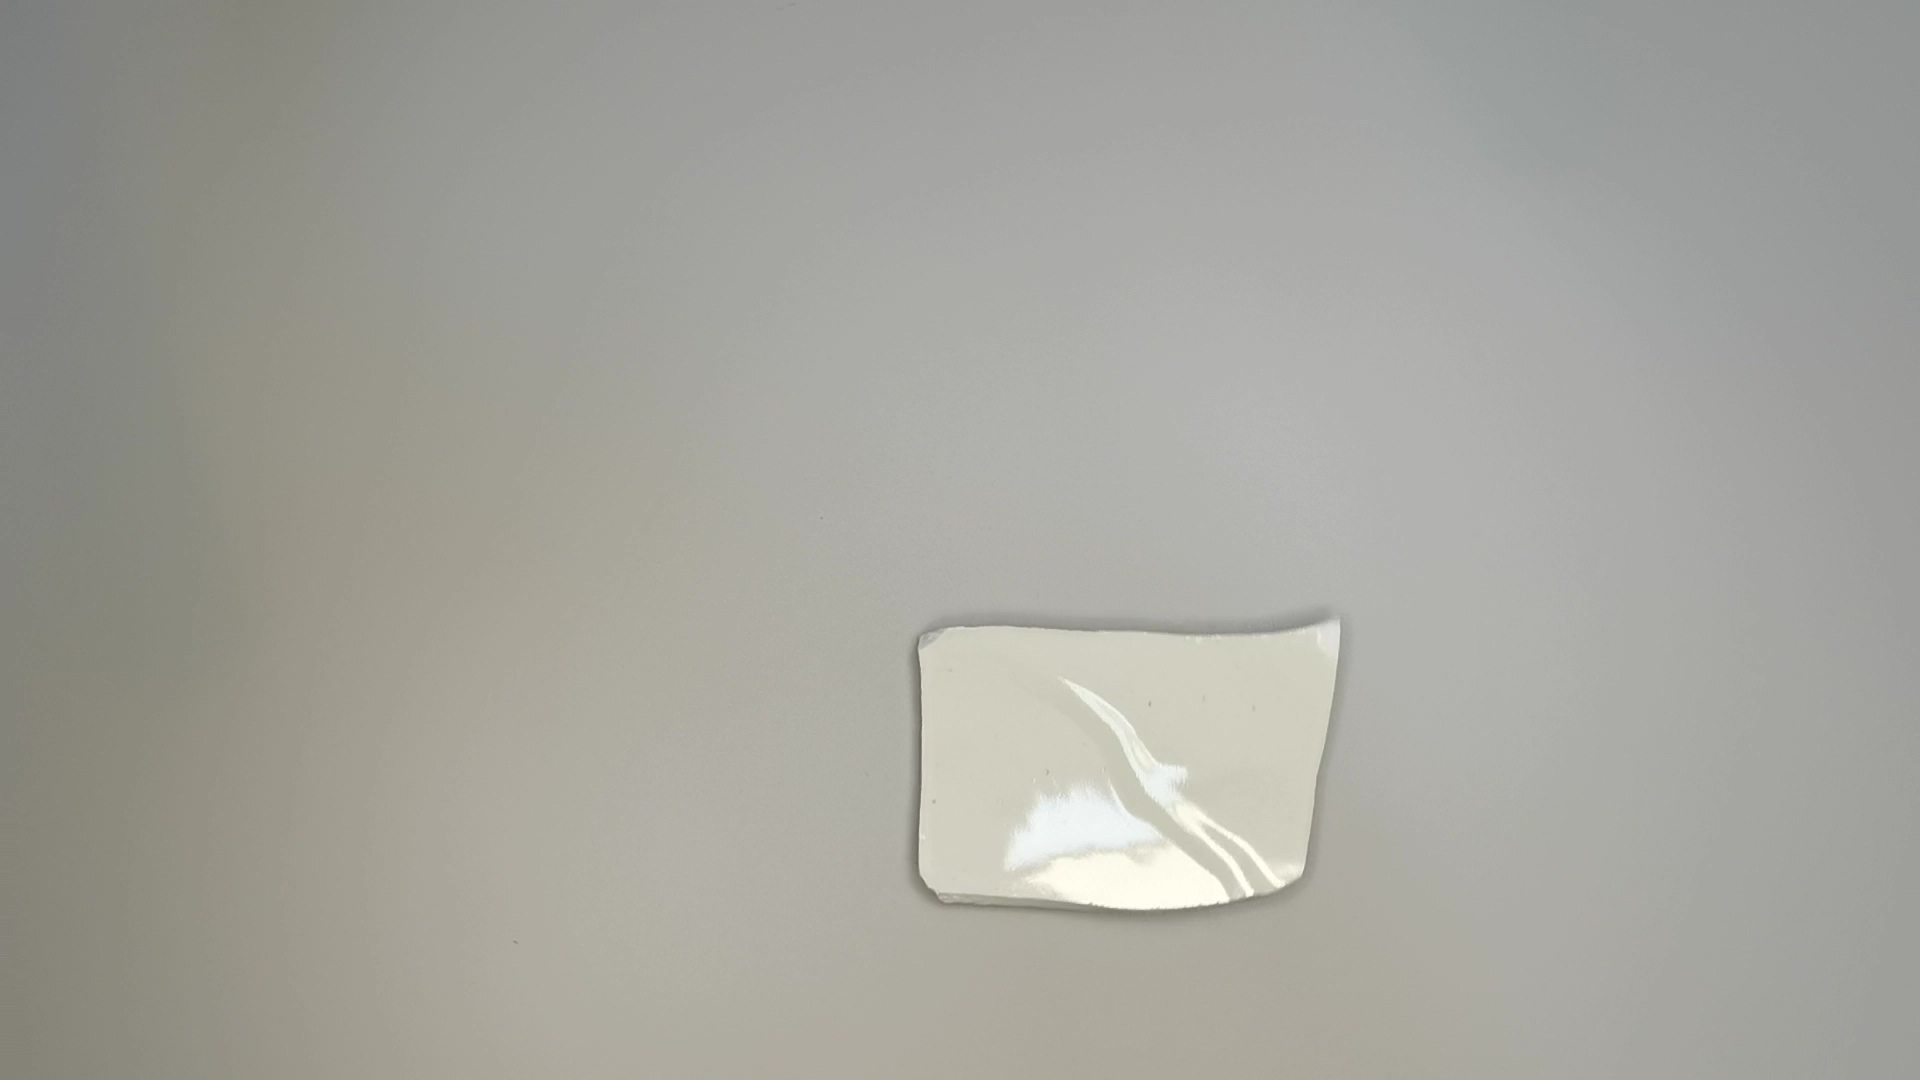ceramic: (906, 615, 1354, 924)
